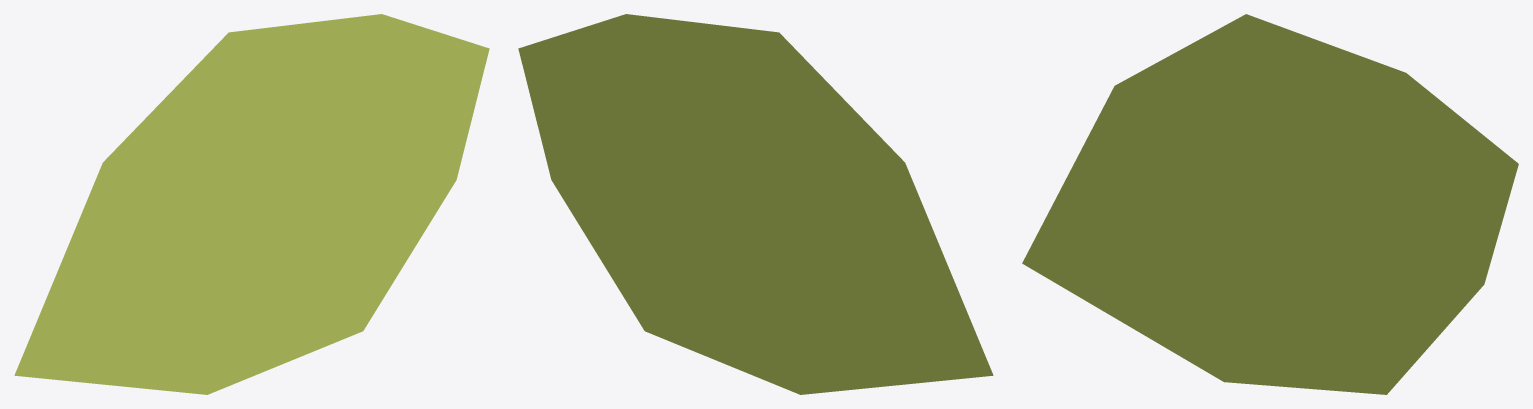
File: LeafBigTree4.glb
The picture shows the model from 3 angles, left to right: view 1: azimuth 30°, elevation 25°; view 2: azimuth 150°, elevation 25°; view 3: azimuth 330°, elevation 25°; orthographic projection. The views are drawn at different scales.
Parts seen in each view (by area): view 1: Leaf_YellowGreen_Wide.165; view 2: Leaf_YellowGreen_Wide.165; view 3: Leaf_YellowGreen_Wide.165.
Boxes of the visible parts, x1=… form: Leaf_YellowGreen_Wide.165: x1=14, y1=14, x2=489, y2=394; Leaf_YellowGreen_Wide.165: x1=518, y1=14, x2=993, y2=394; Leaf_YellowGreen_Wide.165: x1=1022, y1=14, x2=1518, y2=394.
Bounding box in the file's own units: 0.3865 × 0.2776 × 0.
